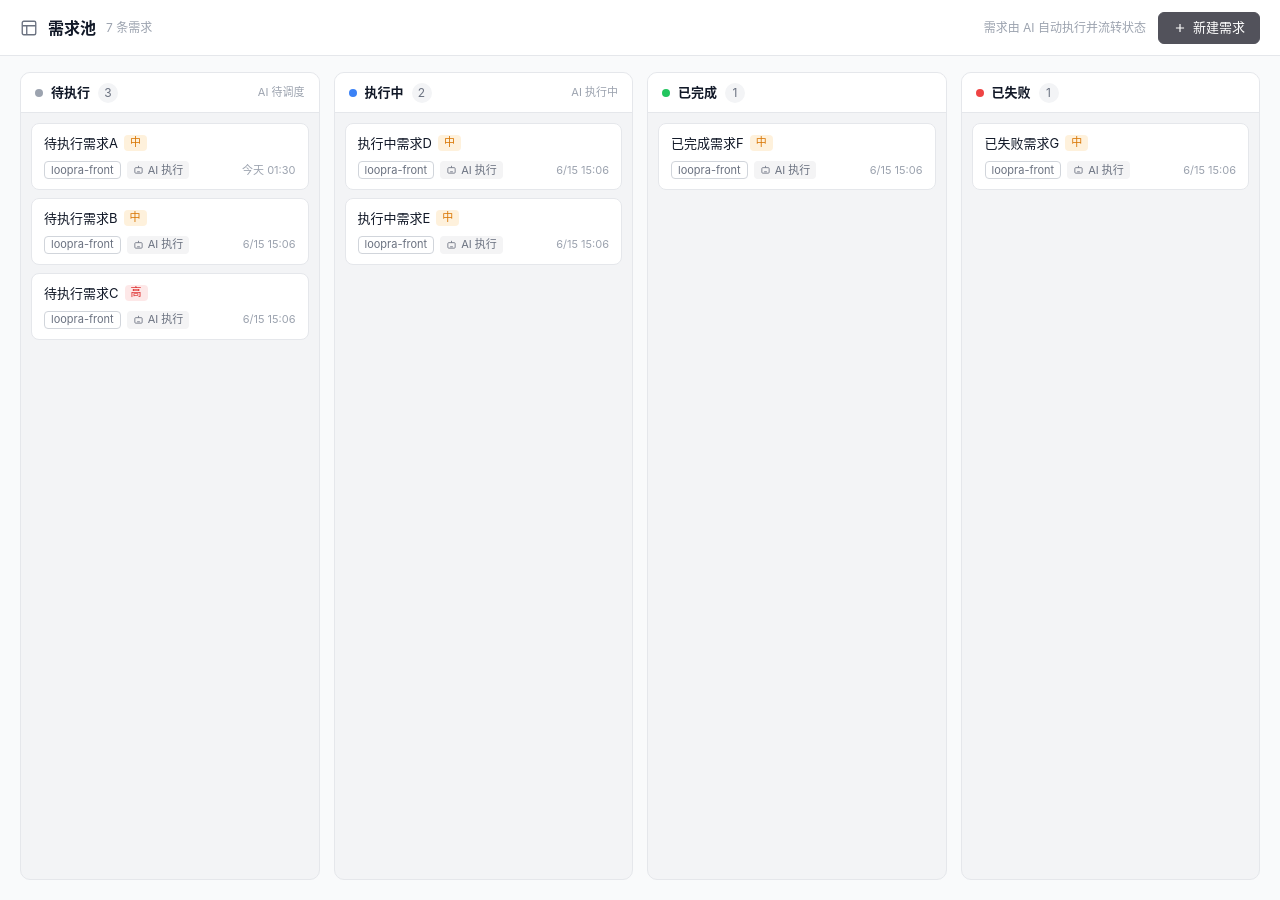
Test: RequirementBoard 需求池看板（后端数据） › 返回按钮关闭全屏详情，回到看板
Click the element with class "req-card" that starts with "待执行需求A".
click(170, 156)  # box [31,123,308,190]
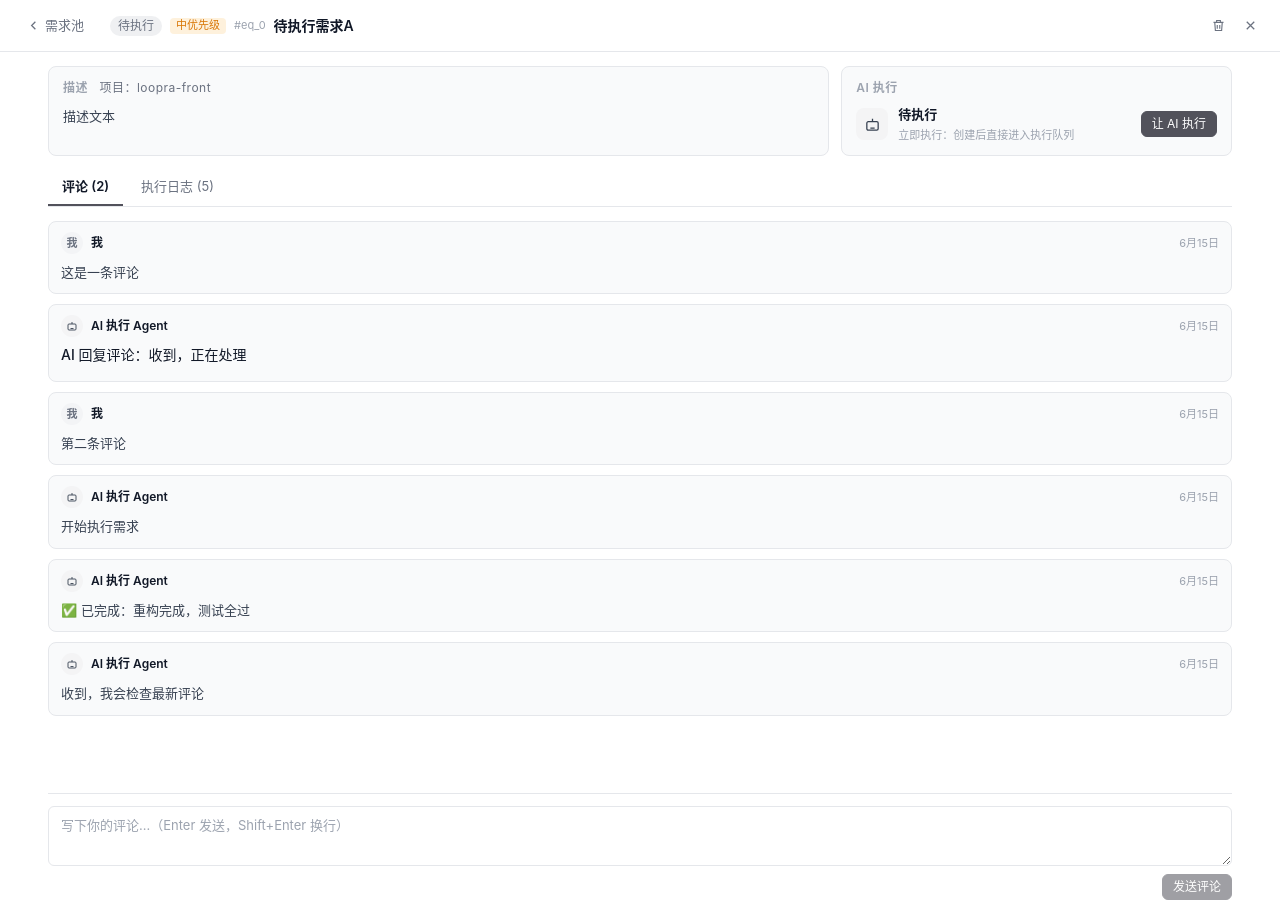
Expected: the element with class "req-detail-view" is shown
Click the button with class "req-detail-back".
click(55, 26)  # box [16,10,94,40]
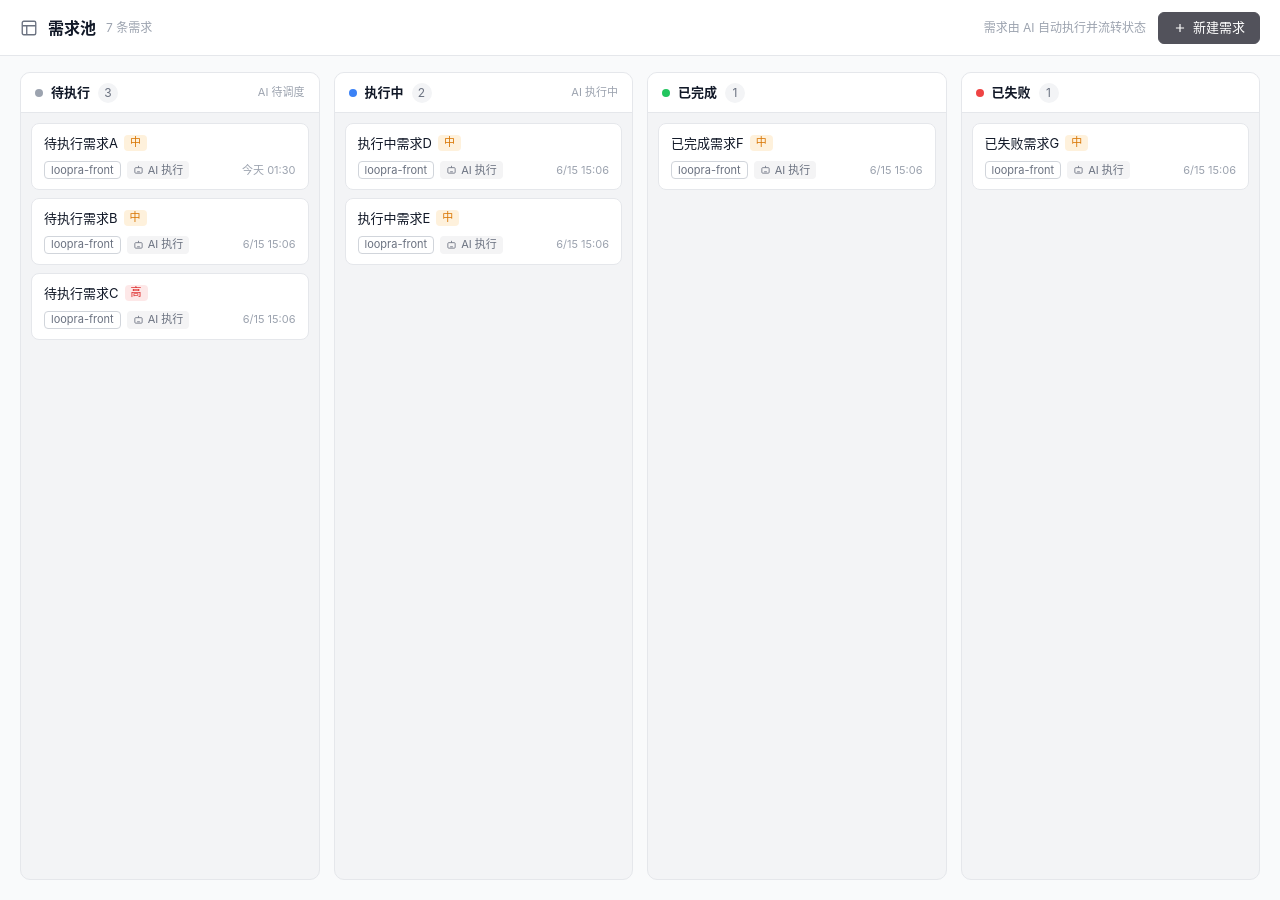
Expected: the element with class "req-board-columns" is shown
